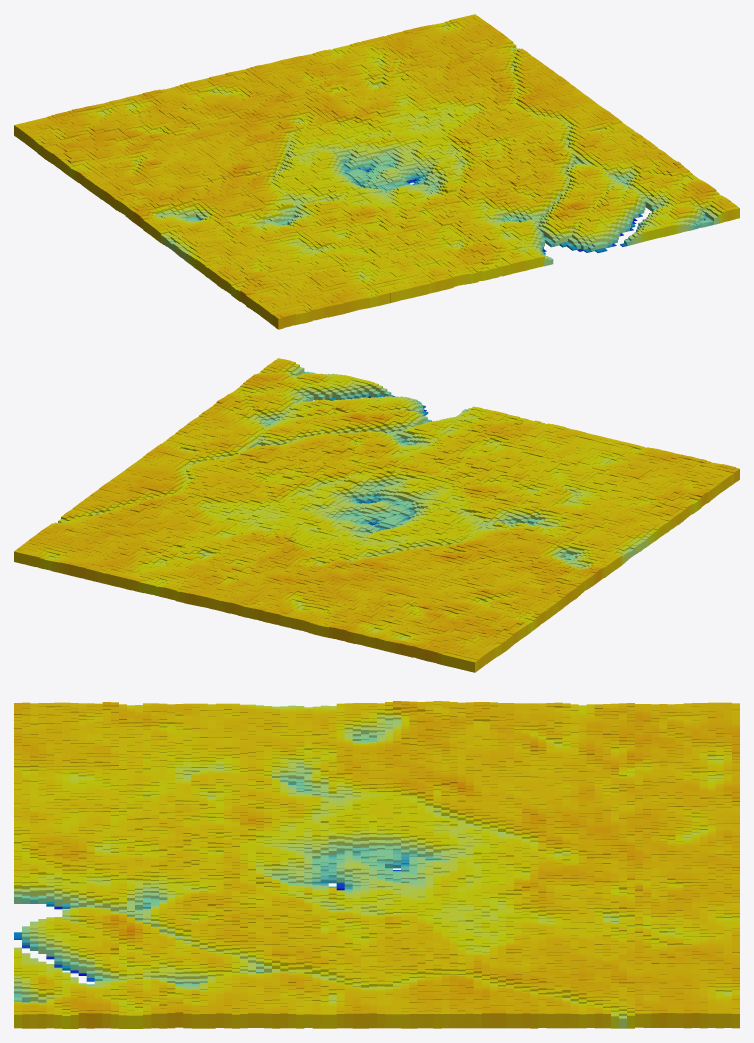
The model's file is population.glb.
3 views of the same model, one above another, from view 1: azimuth 30°, elevation 25°; view 2: azimuth 150°, elevation 25°; view 3: azimuth 270°, elevation 25° (orthographic). The views are drawn at different scales.
Visible parts, largest first — view 1: population; view 2: population; view 3: population.
Part boxes in pixels (left/top/right/bottom): population: left=14, top=14, right=739, bottom=329; population: left=14, top=358, right=739, bottom=672; population: left=14, top=701, right=739, bottom=1028.
Size of the model in its own units: 9034 by 267 by 8972.
